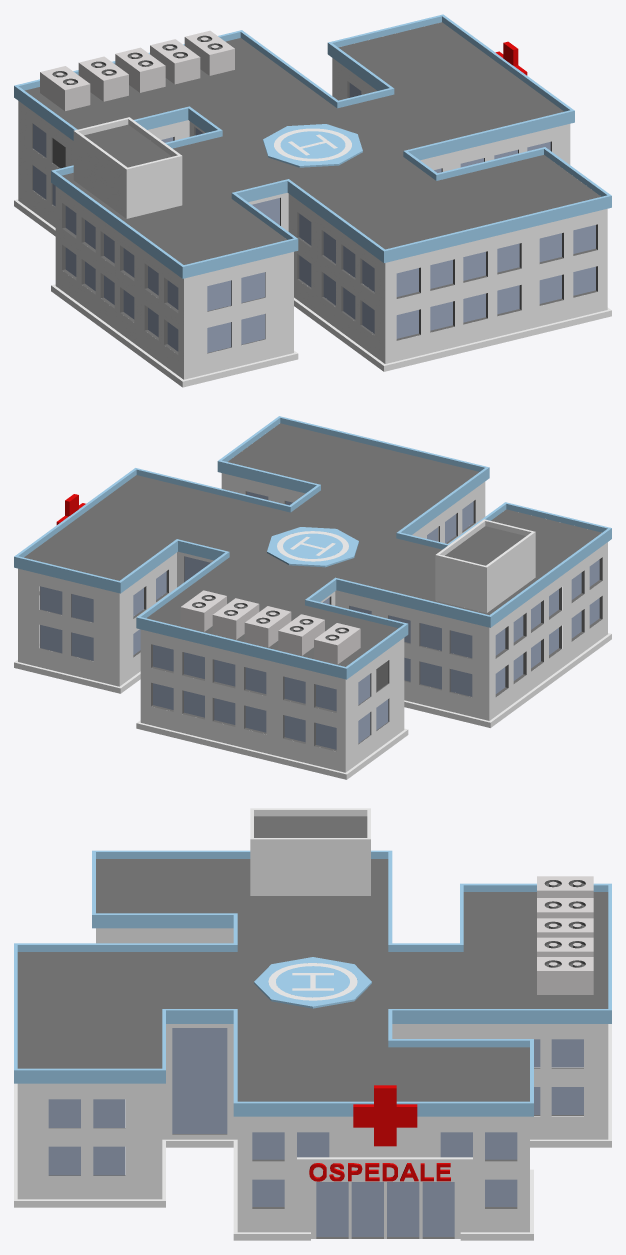
Rendered from hospital.glb.
3 views of the same model, one above another, from view 1: azimuth 30°, elevation 25°; view 2: azimuth 150°, elevation 25°; view 3: azimuth 270°, elevation 25° (orthographic). The views are drawn at different scales.
Parts seen in each view (by area): view 1: mesh_3, mesh_28, mesh_25, mesh_146, mesh_0, mesh_27; view 2: mesh_28, mesh_3, mesh_25, mesh_146, mesh_0, mesh_27; view 3: mesh_3, mesh_28, mesh_25, mesh_146, mesh_0, mesh_261, mesh_27.
Boxes of the visible parts, box(x1,y1,x2,y2) form: mesh_3: box(25, 22, 600, 354); mesh_28: box(14, 58, 611, 387); mesh_25: box(14, 14, 611, 278); mesh_146: box(33, 83, 595, 352); mesh_0: box(40, 30, 234, 110); mesh_27: box(274, 128, 351, 161); mesh_28: box(14, 473, 611, 779); mesh_3: box(24, 423, 602, 751); mesh_25: box(14, 416, 611, 679); mesh_146: box(40, 491, 599, 749); mesh_0: box(180, 590, 360, 664); mesh_27: box(277, 531, 348, 561); mesh_3: box(17, 816, 608, 1238); mesh_28: box(14, 808, 611, 1240); mesh_25: box(14, 850, 611, 1116); mesh_146: box(48, 1028, 583, 1236); mesh_0: box(537, 876, 593, 994); mesh_261: box(309, 1085, 450, 1181); mesh_27: box(268, 963, 357, 1000).
Size of the model in its own units: 16.76 by 5.56 by 16.1.
